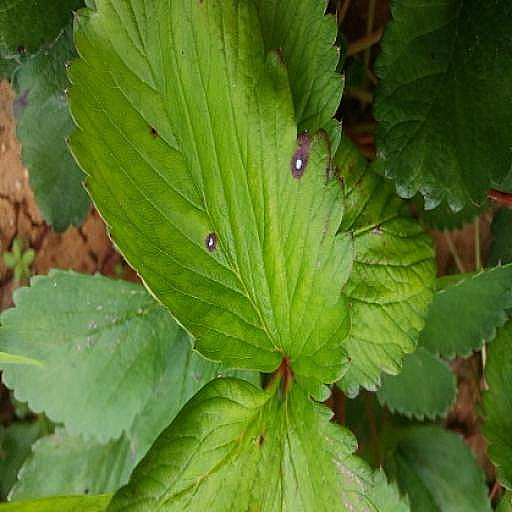Leaf Spot: (63, 129, 355, 511), (103, 0, 381, 145), (335, 113, 441, 382), (9, 277, 92, 490), (6, 9, 136, 86), (0, 446, 82, 511)
